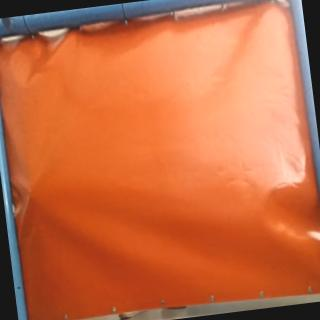Hit-hRxx: (22, 183, 36, 205)
